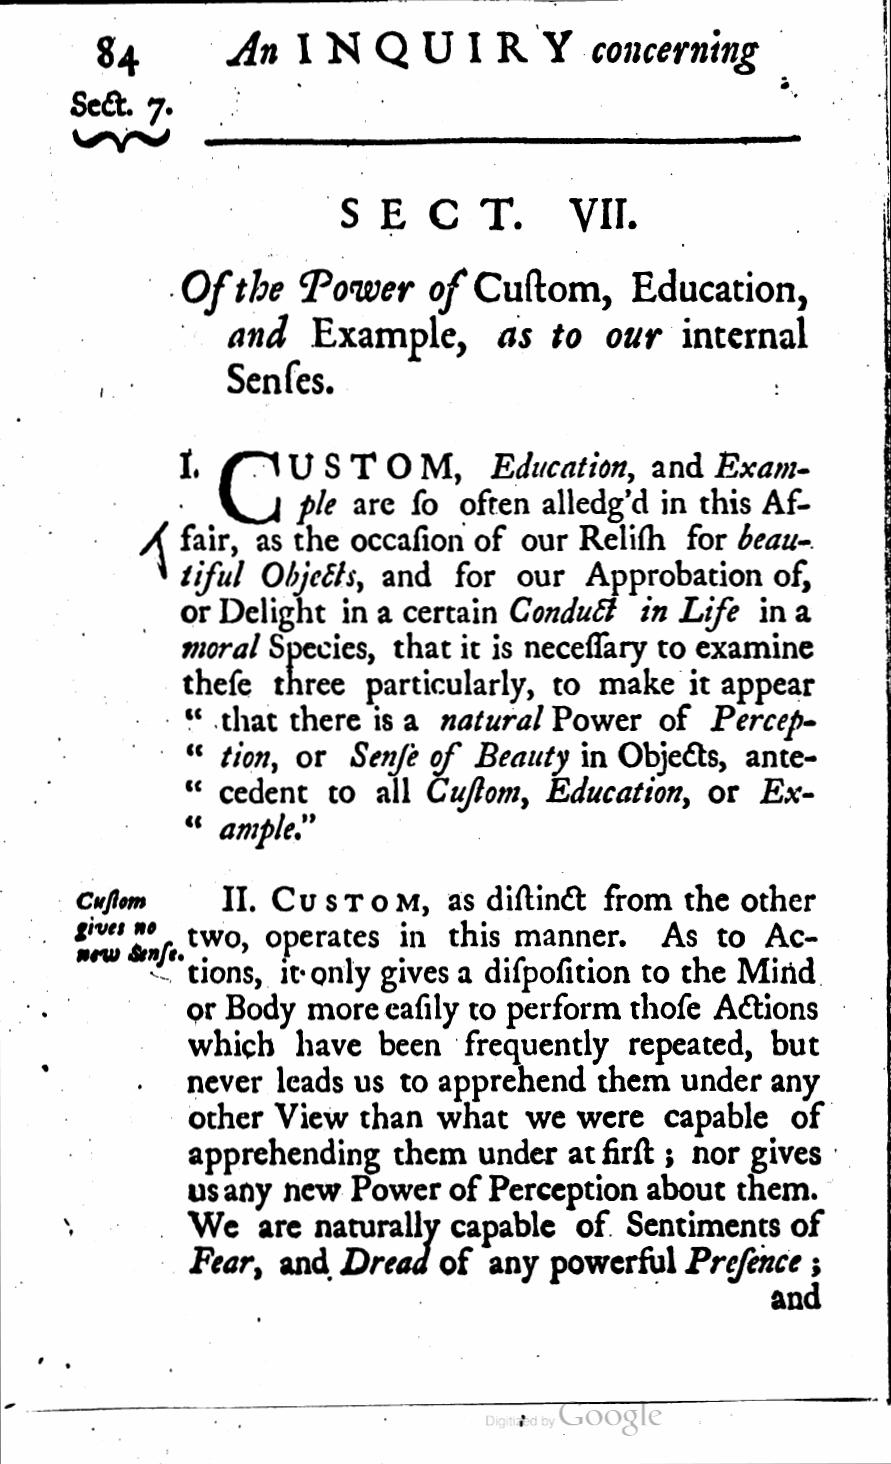catchword: (767, 1281, 824, 1312)
full_p: (177, 444, 821, 852), (177, 264, 813, 402), (337, 192, 644, 239)
header: (224, 27, 764, 78), (68, 85, 178, 159)
initial_l: (215, 445, 289, 528)
page_num: (90, 29, 144, 81)
print_marg: (73, 887, 185, 969)
top_p: (185, 883, 828, 1283)
